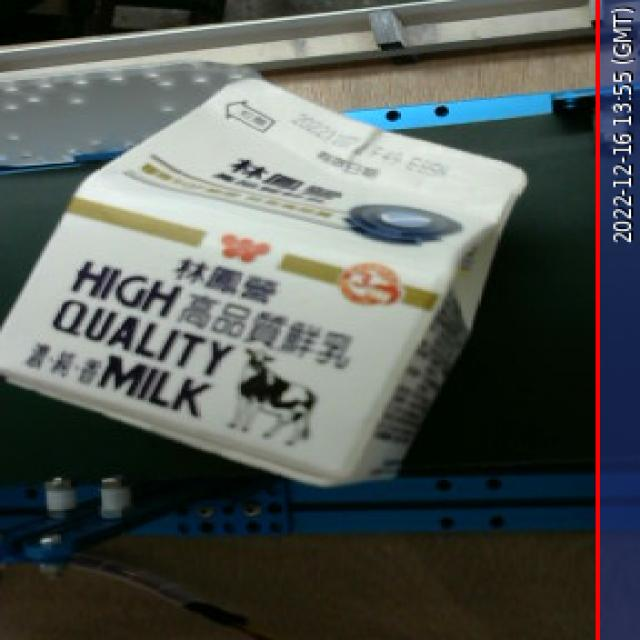non_white_jug: (0, 62, 547, 507)
